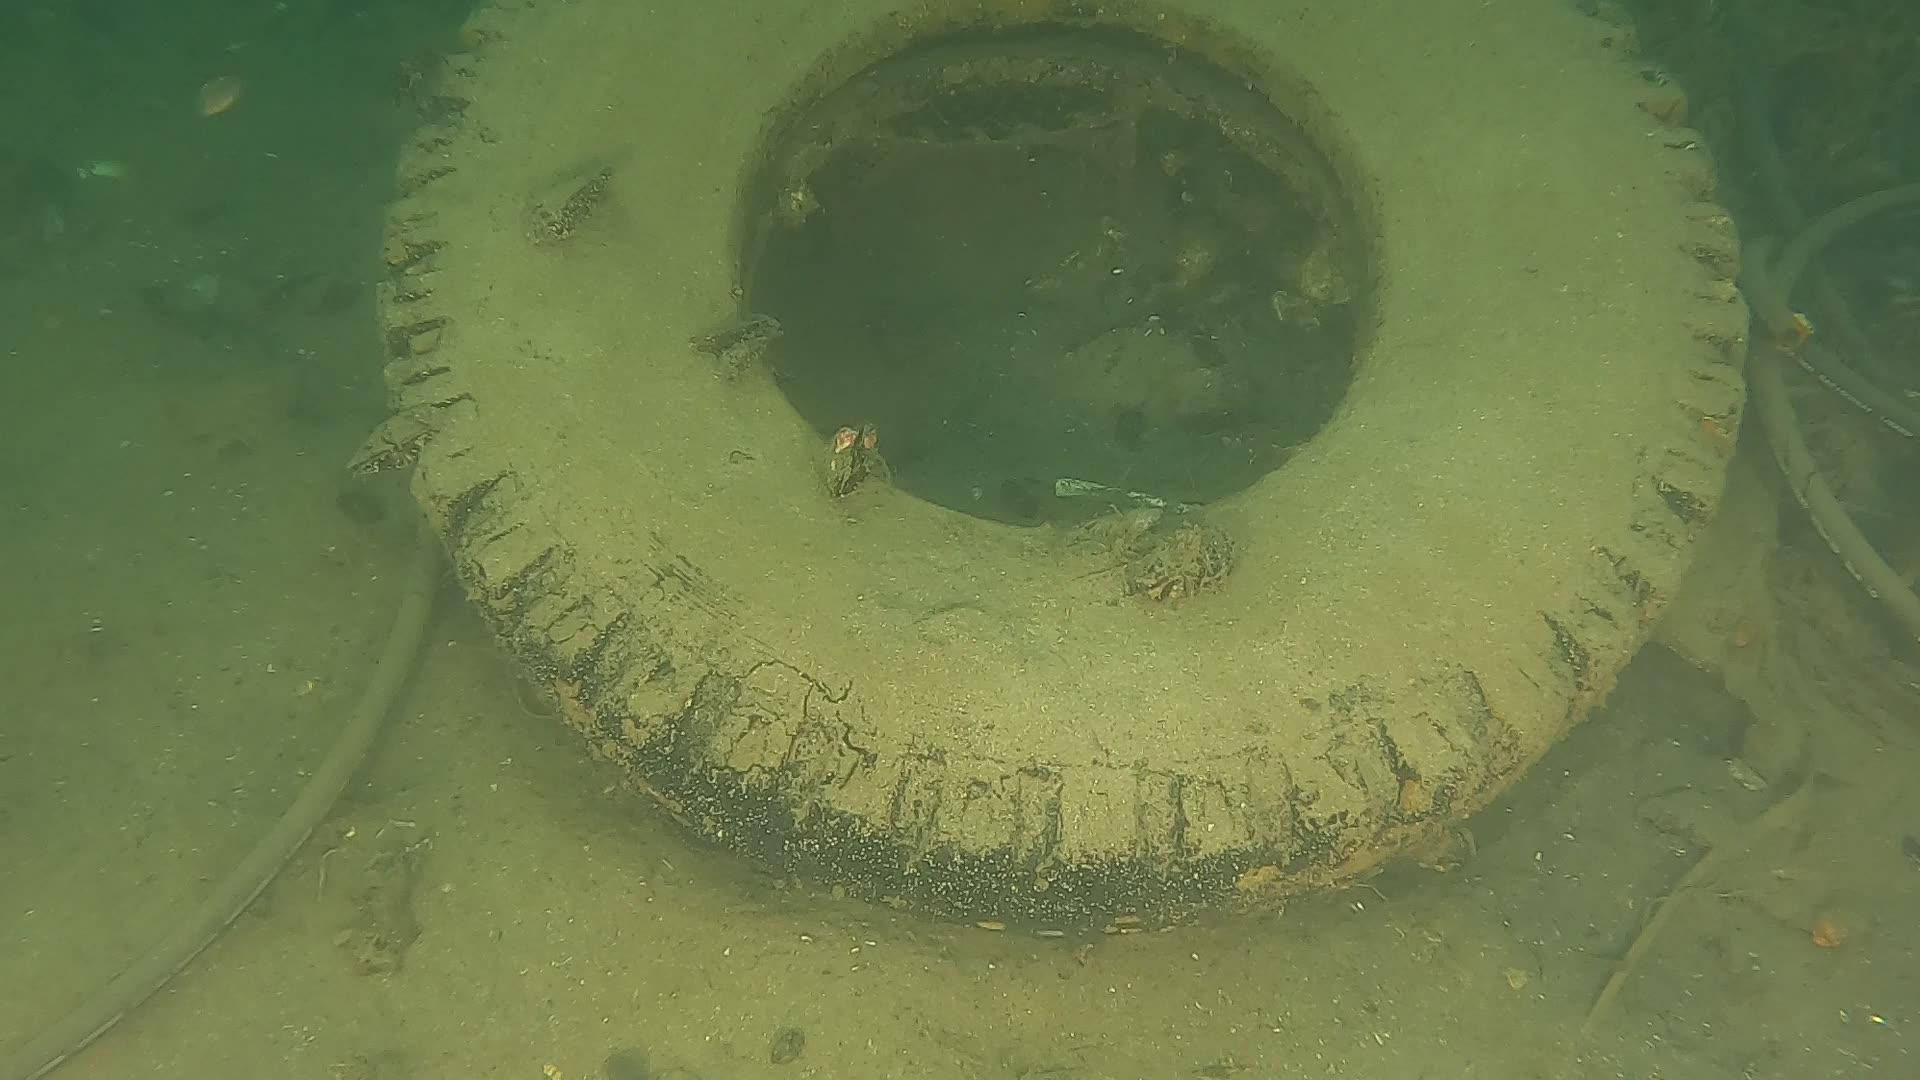tire: (372, 0, 1753, 928)
